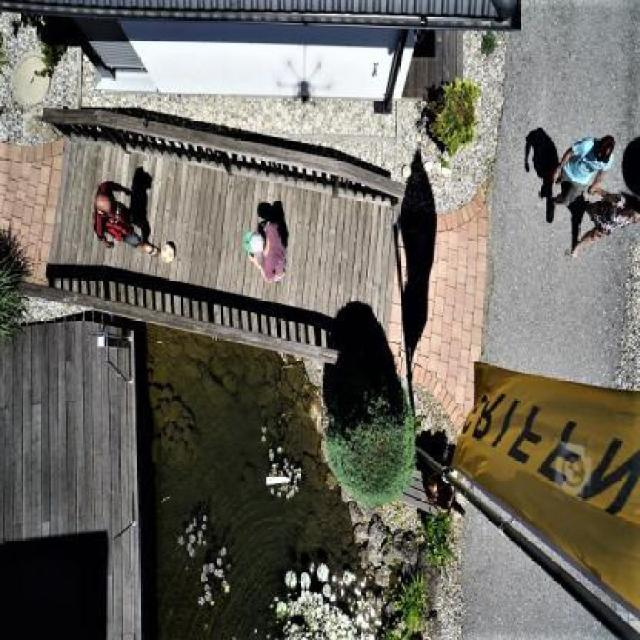Person: (546, 119, 616, 223), (81, 174, 161, 260), (569, 185, 636, 266), (236, 218, 289, 282)
